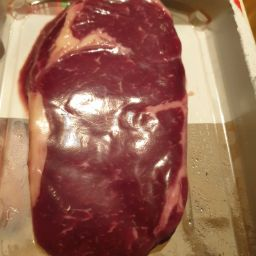Beef: (12, 37, 191, 255), (16, 1, 191, 183), (12, 96, 191, 256)
